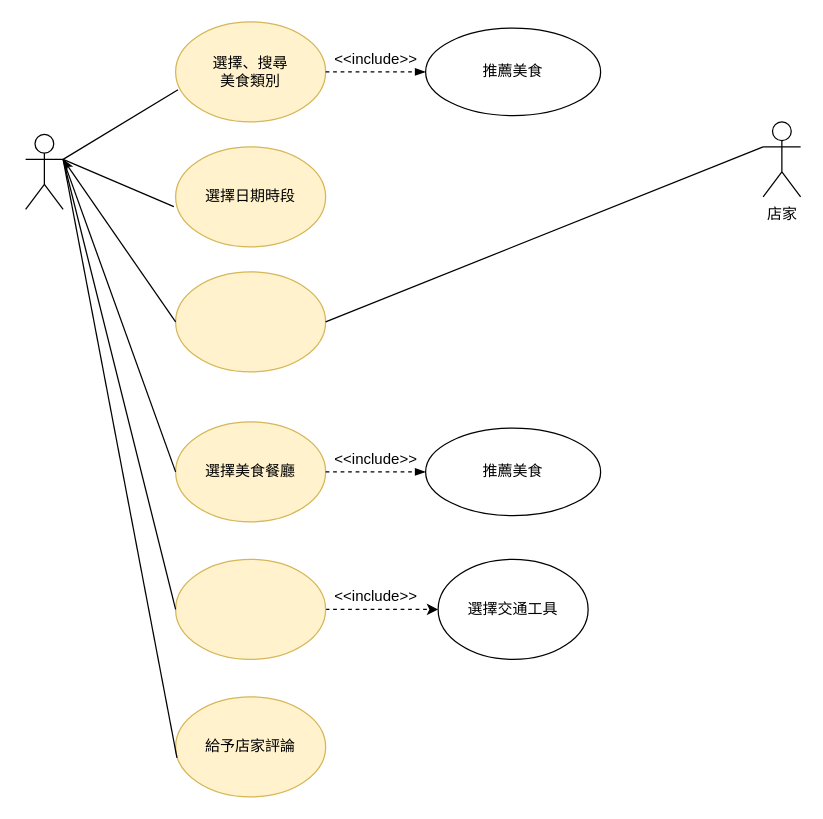
Some shapes in this 823 by 819 pixel diagram are drawn without their labels. The centre of each missing label's shape, as x and y in pixels:
"使用者" goes at [43,171].
"店家餐廳資訊" goes at [250,321].
"顯示路徑" goes at [250,608].
